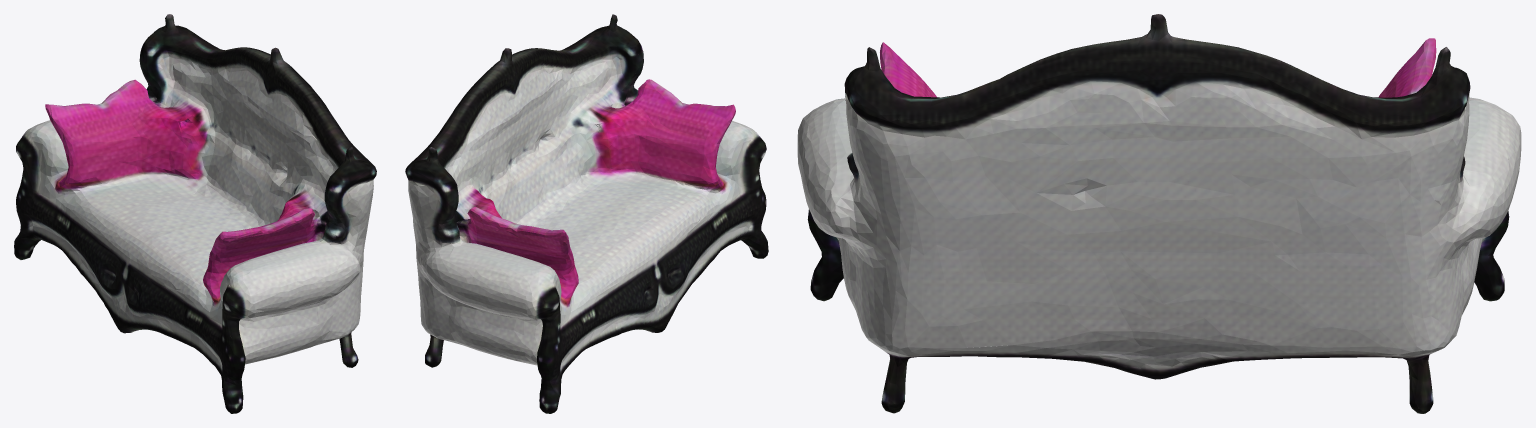
The picture shows the model from 3 angles, left to right: view 1: azimuth 30°, elevation 25°; view 2: azimuth 150°, elevation 25°; view 3: azimuth 270°, elevation 25°; orthographic projection. The views are drawn at different scales.
Visible parts, largest first — view 1: Mesh_0.014; view 2: Mesh_0.014; view 3: Mesh_0.014.
Part boxes in pixels (x1,y1,x2,y2): Mesh_0.014: (14, 14, 376, 413); Mesh_0.014: (405, 14, 768, 413); Mesh_0.014: (797, 14, 1521, 413).
Size of the model in its own units: 3.44 by 4.79 by 7.76.
Materials: 1 (1 with a texture image).
